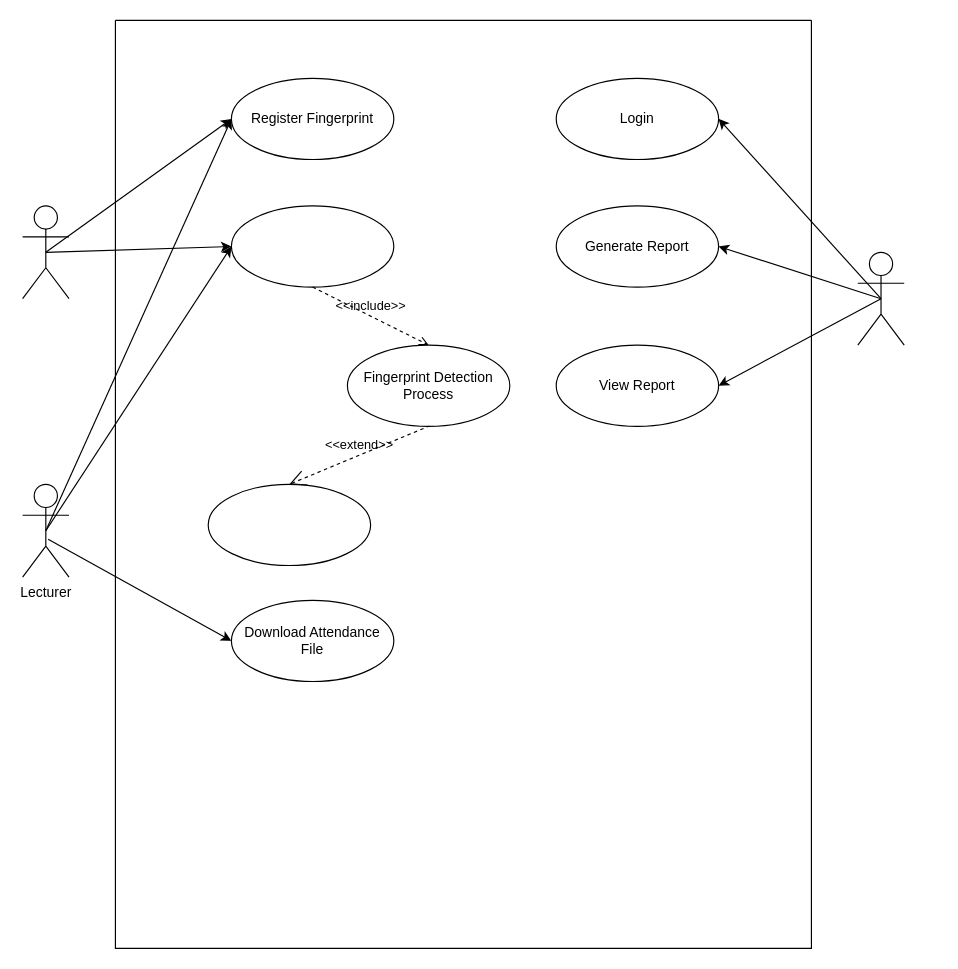
This 958x969 diagram has some shape labels left out. Each missing label, with the centre of its shape:
"HR_Administration" belongs at (880,298).
"Mark as Attended" belongs at (289,524).
"Scanning Fingerprint" belongs at (312,246).
"Student" belongs at (45,252).
